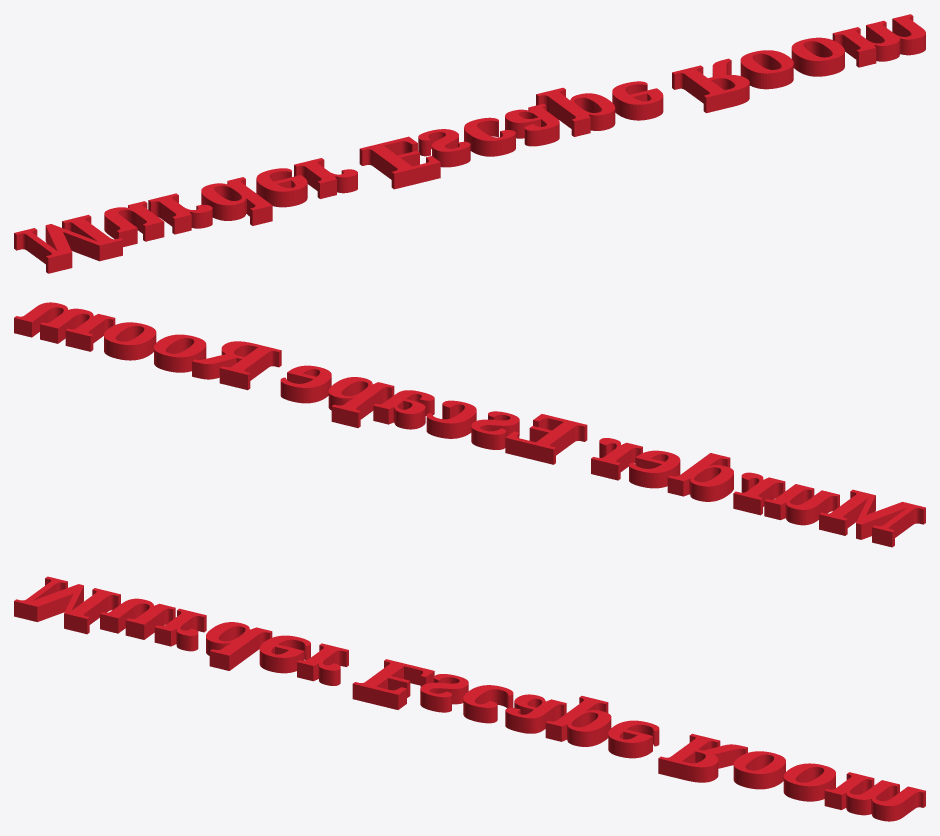
Rendered from tinker.obj.
3 views of the same model, one above another, from view 1: azimuth 30°, elevation 25°; view 2: azimuth 150°, elevation 25°; view 3: azimuth 330°, elevation 25° (orthographic). The views are drawn at different scales.
Visible parts, largest first — view 1: obj_0; view 2: obj_0; view 3: obj_0.
Part boxes in pixels (<box>): obj_0: <box>14,14,925,273</box>; obj_0: <box>14,302,925,547</box>; obj_0: <box>14,576,925,821</box>.
Size of the model in its own units: 299 by 5 by 27.76.
